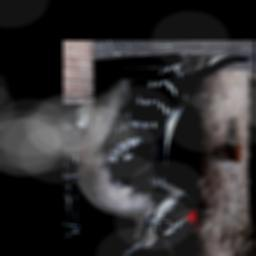Woodpecker: (69, 55, 251, 256)
